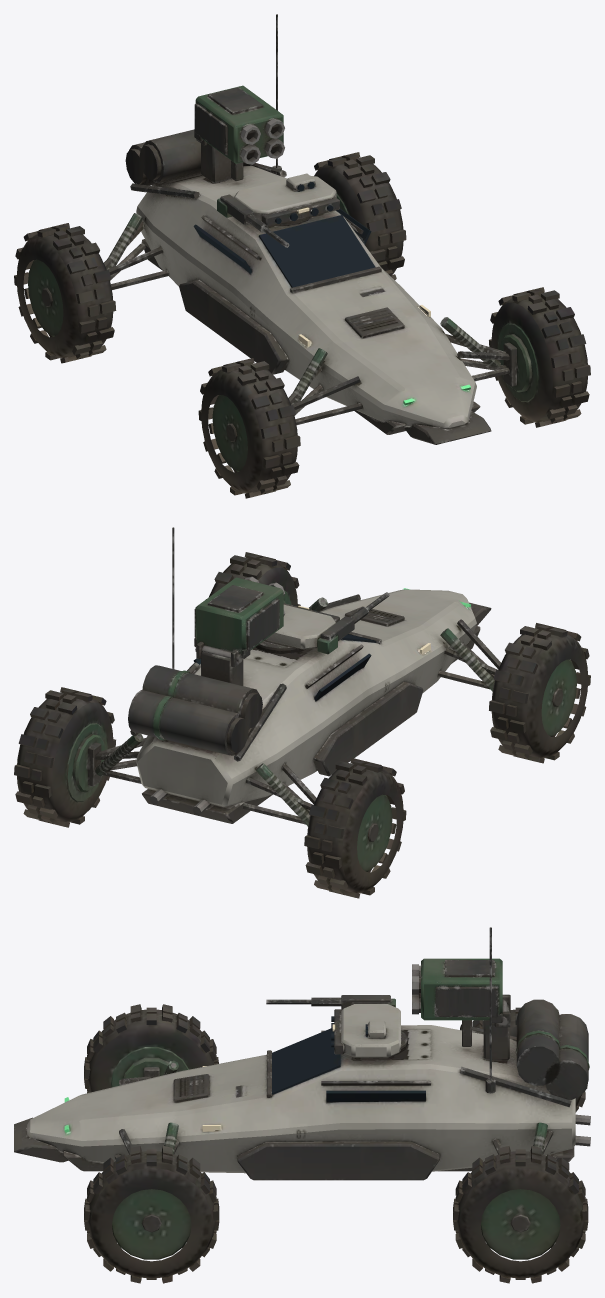
The model's file is hs_jackal_lod0.glb.
3 views of the same model, one above another, from view 1: azimuth 30°, elevation 25°; view 2: azimuth 150°, elevation 25°; view 3: azimuth 270°, elevation 25° (orthographic).
Bounding box in the file's own units: 3.86 × 3.35 × 5.79.
1 material, 1 textured.
